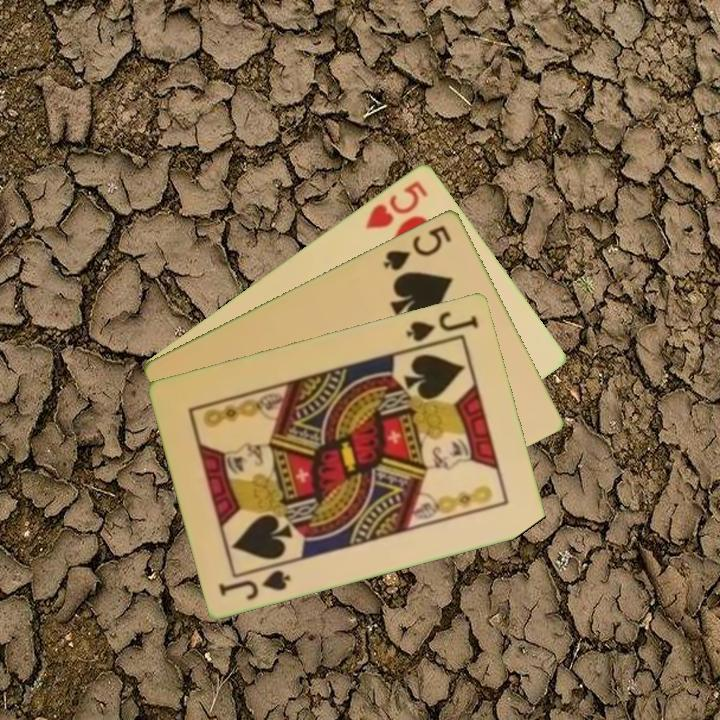5h: (361, 176, 431, 232)
5s: (379, 221, 455, 273)
Js: (215, 565, 294, 603), (402, 307, 482, 344)
